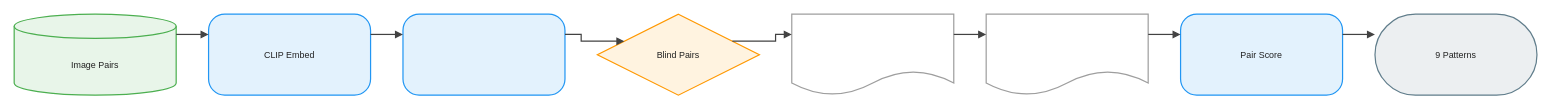
Some shapes in this 1552 by 110 pixel diagram are drawn without their labels. The centre of each missing label's shape, as x and y in pixels:
300 Tests: point (1066, 54)
DINO Embed: point (483, 54)
Manual Qs: point (872, 54)
